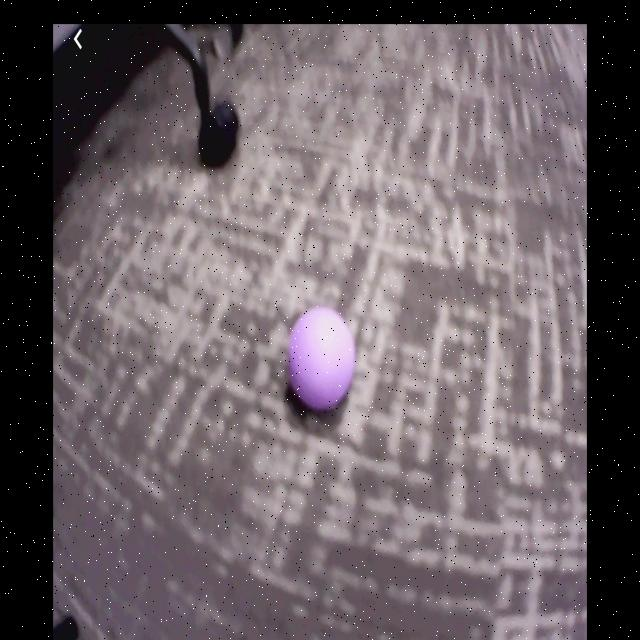ball: (291, 309, 355, 407)
